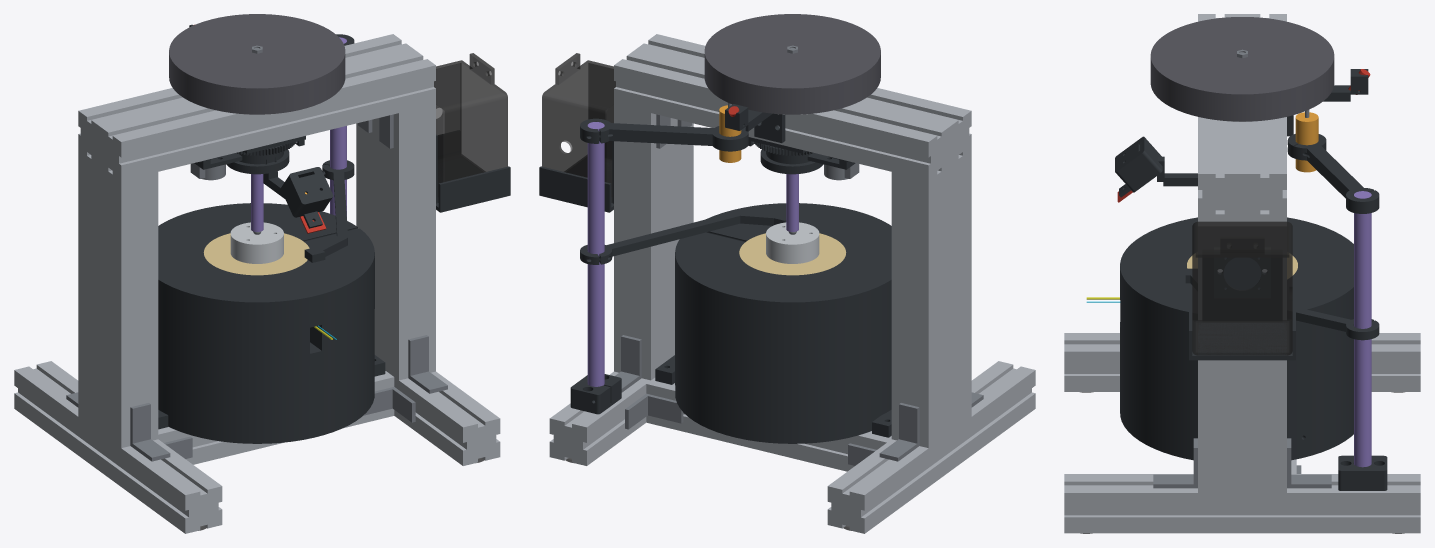
File: E7_sestava_final.glb
The picture shows the model from 3 angles, left to right: view 1: azimuth 30°, elevation 25°; view 2: azimuth 150°, elevation 25°; view 3: azimuth 270°, elevation 25°; orthographic projection. The views are drawn at different scales.
Parts seen in each view (by area): view 1: cell PETG D220x146 flat top, variant U, T01 column 40x80 slot 8 x276 L, T04 top beam 40x80 x340, hole D14, T01 column 40x80 slot 8 x276 R, T02 base rail 40x40 x320 L, L07 steel disc 0.5 kg, P06 box with RPi Zero 2 W (on the column), T02 base rail 40x40 x320 R, P18 RPi box bracket (print), T03 base cross bar 40x80 x260, unsaturated sand D100x100, P03 target arm (print) (+13 smaller); view 2: cell PETG D220x146 flat top, variant U, T01 column 40x80 slot 8 x276 L, T04 top beam 40x80 x340, hole D14, T01 column 40x80 slot 8 x276 R, T02 base rail 40x40 x320 L, L07 steel disc 0.5 kg, P06 box with RPi Zero 2 W (on the column), Invar 36 post D16 x283, T02 base rail 40x40 x320 R, T03 base cross bar 40x80 x260, P02 LVDT arm (print), P03 target arm (print) (+15 smaller); view 3: cell PETG D220x146 flat top, variant U, T02 base rail 40x40 x320 R, T01 column 40x80 slot 8 x276 R, P06 box with RPi Zero 2 W (on the column), L07 steel disc 0.5 kg, P18 RPi box bracket (print), T04 top beam 40x80 x340, hole D14, T02 base rail 40x40 x320 L, Invar 36 post D16 x283, P02 LVDT arm (print), P14 camera arm + head (print), P04 post foot (print) (+10 smaller).
Boxes of the visible parts, box(x1,y1,x2,y2) form: cell PETG D220x146 flat top, variant U: box(158, 203, 374, 443); T01 column 40x80 slot 8 x276 L: box(78, 149, 158, 448); T04 top beam 40x80 x340, hole D14: box(78, 34, 435, 180); T01 column 40x80 slot 8 x276 R: box(356, 104, 435, 380); T02 base rail 40x40 x320 L: box(14, 361, 222, 533); L07 steel disc 0.5 kg: box(169, 14, 345, 91); P06 box with RPi Zero 2 W (on the column): box(434, 53, 507, 202); T02 base rail 40x40 x320 R: box(394, 371, 500, 465); P18 RPi box bracket (print): box(436, 134, 510, 212); T03 base cross bar 40x80 x260: box(158, 371, 394, 464); unsaturated sand D100x100: box(203, 233, 309, 275); P03 target arm (print): box(304, 160, 354, 262); cell PETG D220x146 flat top, variant U: box(675, 203, 891, 443); T01 column 40x80 slot 8 x276 L: box(891, 149, 971, 448); T04 top beam 40x80 x340, hole D14: box(614, 34, 971, 180); T01 column 40x80 slot 8 x276 R: box(614, 104, 693, 380); T02 base rail 40x40 x320 L: box(827, 361, 1035, 533); L07 steel disc 0.5 kg: box(704, 14, 880, 91); P06 box with RPi Zero 2 W (on the column): box(542, 53, 615, 202); Invar 36 post D16 x283: box(587, 122, 604, 386); T02 base rail 40x40 x320 R: box(549, 371, 650, 465); T03 base cross bar 40x80 x260: box(646, 378, 891, 471); P02 LVDT arm (print): box(580, 118, 748, 151); P03 target arm (print): box(580, 211, 786, 264); cell PETG D220x146 flat top, variant U: box(1120, 217, 1353, 460); T02 base rail 40x40 x320 R: box(1064, 474, 1420, 533); T01 column 40x80 slot 8 x276 R: box(1198, 210, 1286, 492); P06 box with RPi Zero 2 W (on the column): box(1192, 221, 1292, 355); L07 steel disc 0.5 kg: box(1150, 17, 1334, 97); P18 RPi box bracket (print): box(1189, 257, 1295, 360); T04 top beam 40x80 x340, hole D14: box(1198, 14, 1286, 214); T02 base rail 40x40 x320 L: box(1064, 333, 1420, 391); Invar 36 post D16 x283: box(1354, 191, 1371, 467); P02 LVDT arm (print): box(1287, 134, 1379, 213); P14 camera arm + head (print): box(1117, 138, 1197, 197); P04 post foot (print): box(1338, 455, 1387, 490).
Bounding box in the file's own units: 416 × 400 × 320.
